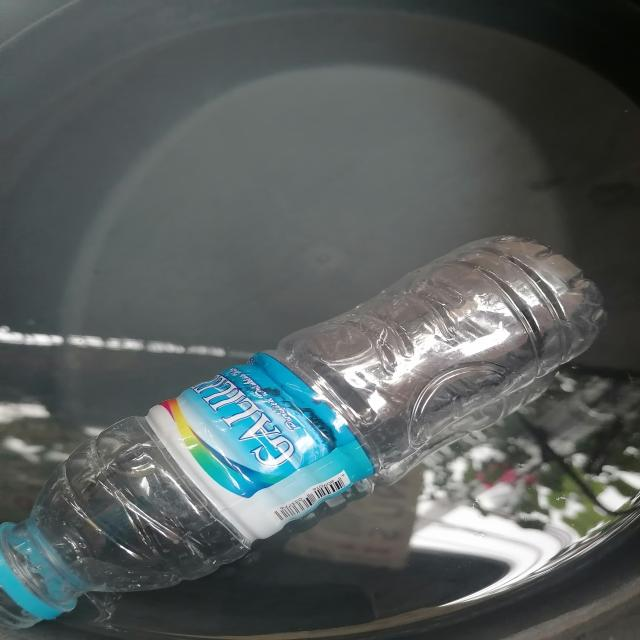Plastic Bottle: (0, 236, 605, 624)
